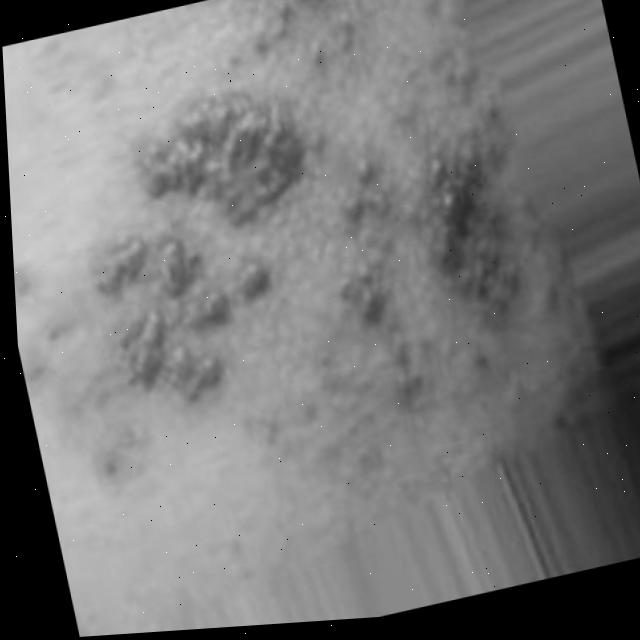Shingles: (0, 0, 562, 511)
